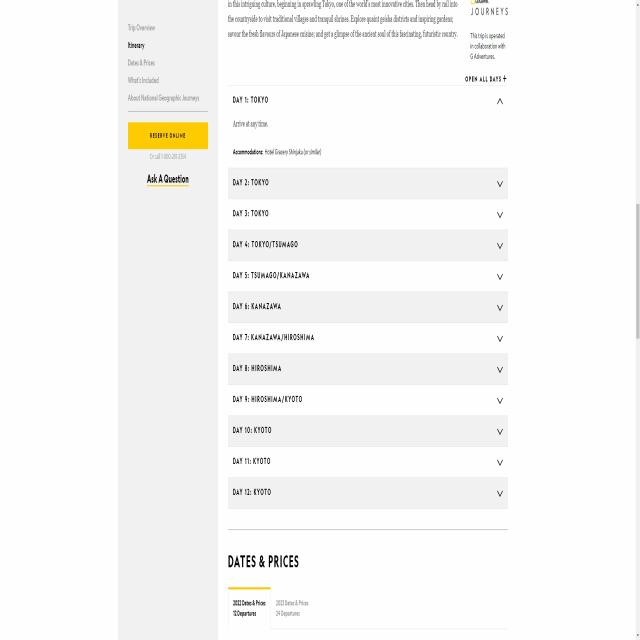tab-bar: (226, 582, 312, 630)
